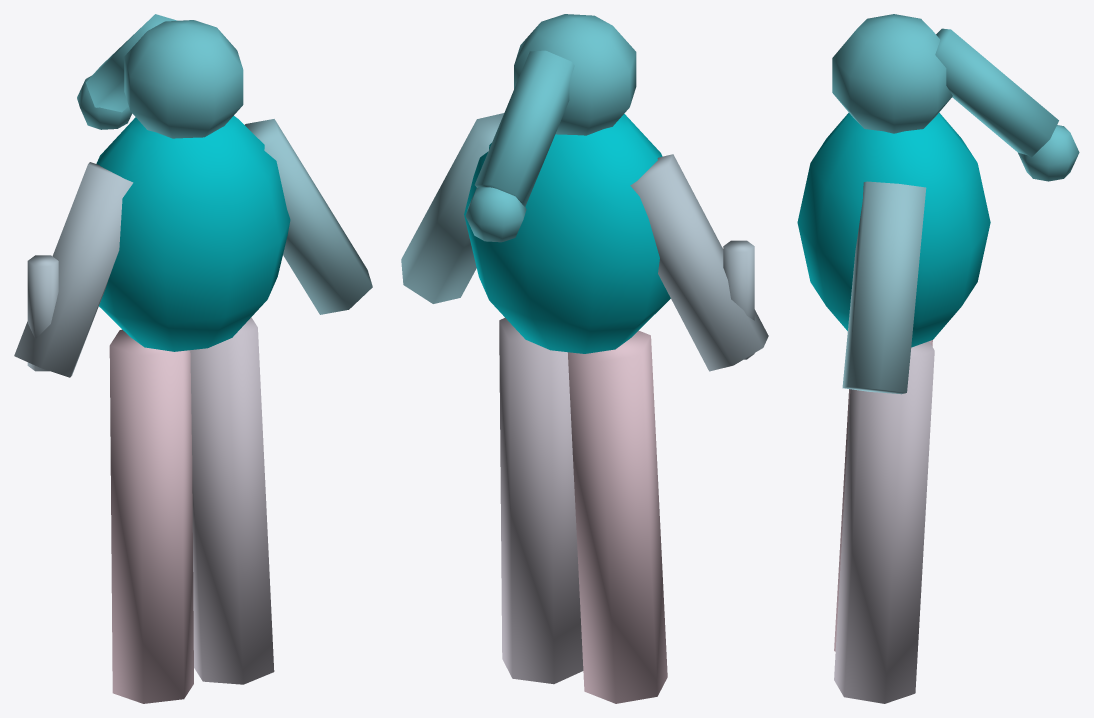
File: dancer_c.glb
The picture shows the model from 3 angles, left to right: view 1: azimuth 30°, elevation 25°; view 2: azimuth 150°, elevation 25°; view 3: azimuth 270°, elevation 25°; orthographic projection. The views are drawn at different scales.
Visible parts, largest first — view 1: dancer; view 2: dancer; view 3: dancer.
Part boxes in pixels (x1,y1,x2,y2): dancer: (14,14,372,703); dancer: (401,14,768,703); dancer: (797,14,1079,703).
Size of the model in its own units: 1.06 by 1.86 by 0.73.
